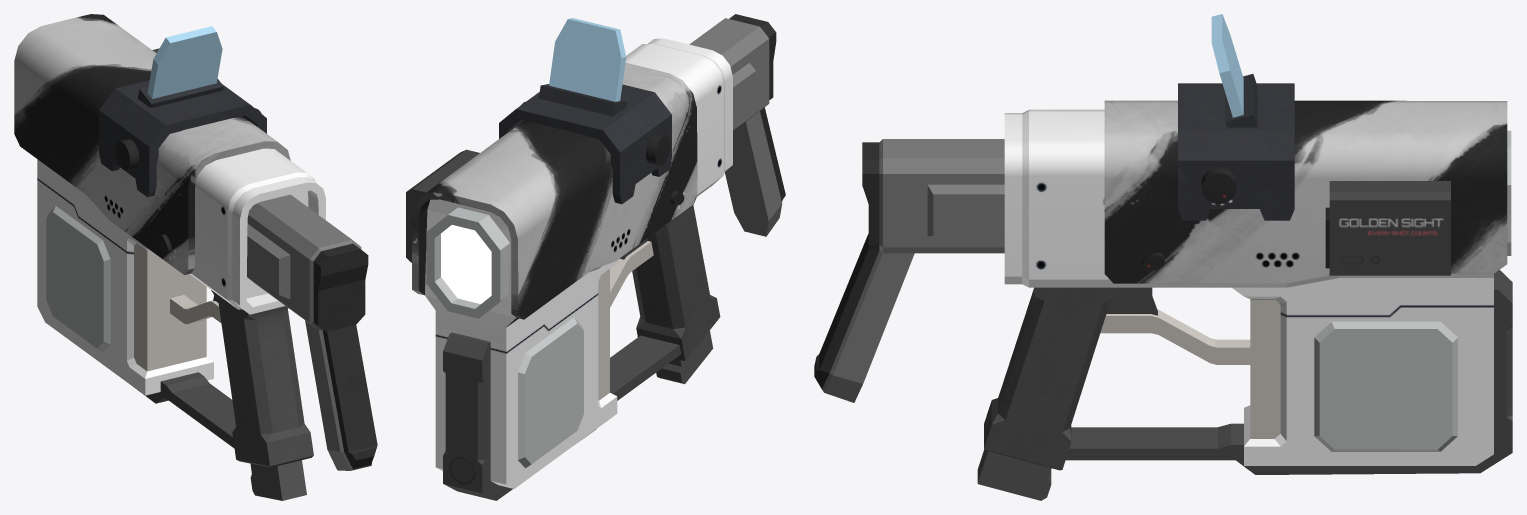
The model's file is IG_Gun_CubeGun.fbx.
3 views of the same model, side by side, from view 1: azimuth 30°, elevation 25°; view 2: azimuth 150°, elevation 25°; view 3: azimuth 270°, elevation 25° (orthographic). The views are drawn at different scales.
Visible parts, largest first — view 1: Pfb_WPN_CubeGun; view 2: Pfb_WPN_CubeGun; view 3: Pfb_WPN_CubeGun.
Boxes of the visible parts, x1,y1,x2,y2 form: Pfb_WPN_CubeGun: [14, 14, 377, 500]; Pfb_WPN_CubeGun: [406, 14, 785, 500]; Pfb_WPN_CubeGun: [814, 14, 1512, 500].
Bounding box in the file's own units: 0.1953 × 0.5021 × 0.6805.
